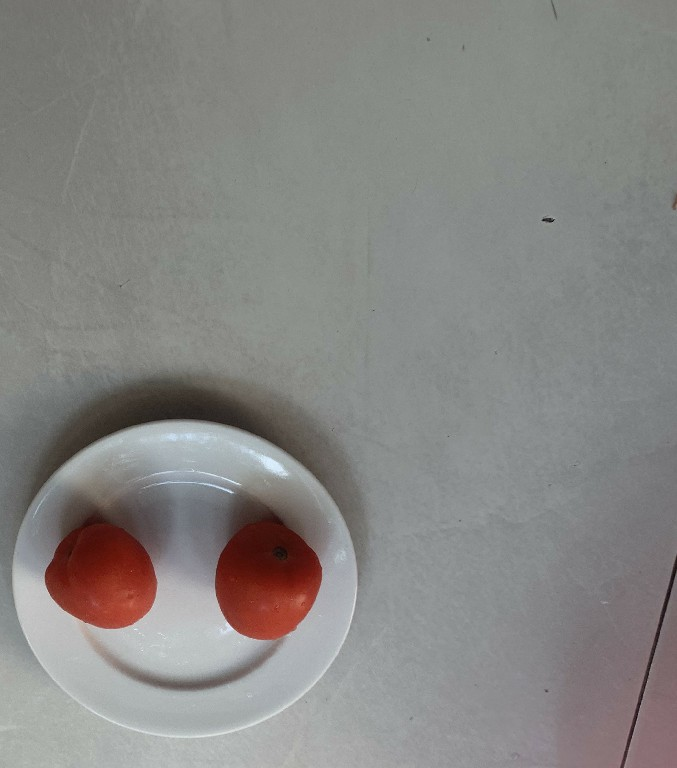OK: (209, 517, 323, 643), (39, 516, 158, 630)
